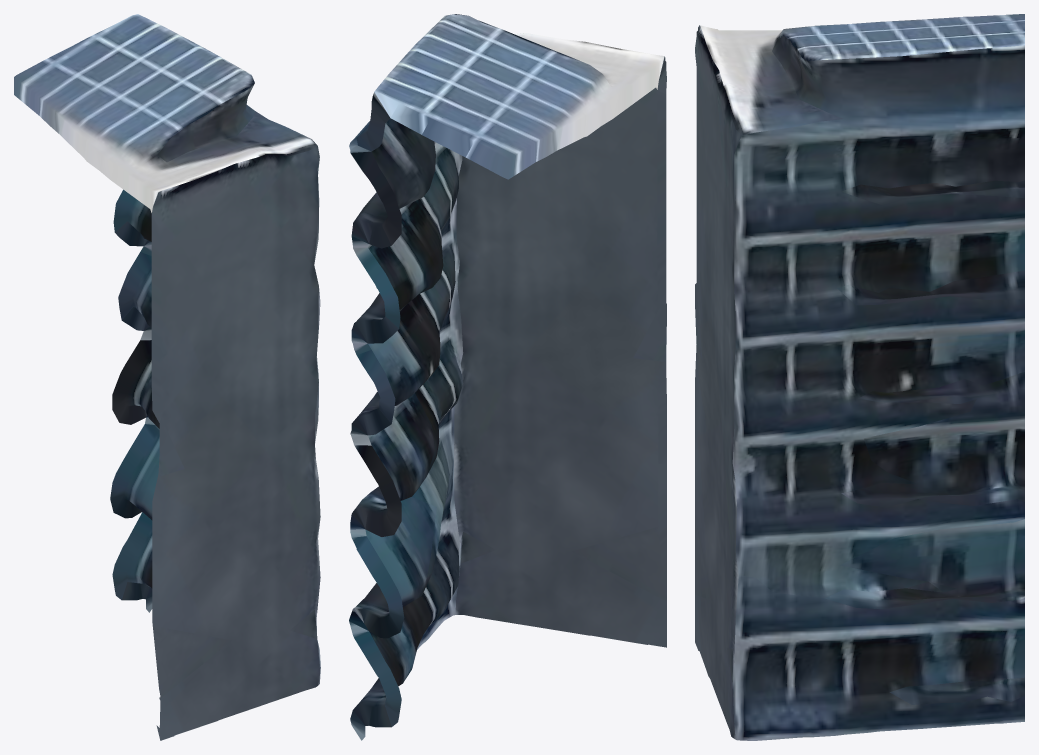
File: z20-167731-405195-h1-yup-uvflip-v3-world.glb
3 renders of one model, left to right at view 1: azimuth 30°, elevation 25°; view 2: azimuth 150°, elevation 25°; view 3: azimuth 270°, elevation 25°, orthographic. The views are drawn at different scales.
Bounding box in the file's own units: 6.24 × 19.88 × 8.76.
1 material, 1 textured.
